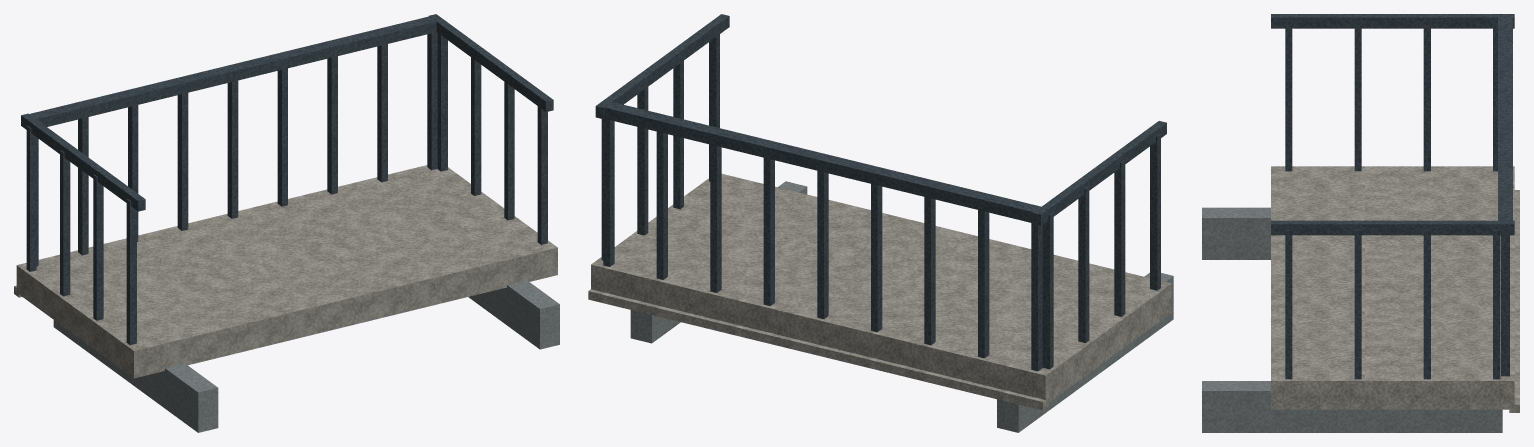
Rendered from PZ_Midrise_Balcony_Attachable.glb.
3 views of the same model, side by side, from view 1: azimuth 30°, elevation 25°; view 2: azimuth 150°, elevation 25°; view 3: azimuth 270°, elevation 25° (orthographic). The views are drawn at different scales.
Visible parts, largest first — view 1: BalconyAttachable_CantileverBalcony_CantileverDeck, BalconyAttachable_CantileverBalcony_Guardrail, BalconyAttachable_CantileverBalcony_BearingBrackets; view 2: BalconyAttachable_CantileverBalcony_CantileverDeck, BalconyAttachable_CantileverBalcony_Guardrail, BalconyAttachable_CantileverBalcony_EdgeDrip, BalconyAttachable_CantileverBalcony_BearingBrackets; view 3: BalconyAttachable_CantileverBalcony_CantileverDeck, BalconyAttachable_CantileverBalcony_Guardrail, BalconyAttachable_CantileverBalcony_BearingBrackets, BalconyAttachable_CantileverBalcony_EdgeDrip.
Part boxes in pixels (x1,y1,x2,y2): BalconyAttachable_CantileverBalcony_CantileverDeck: (16, 165, 557, 378); BalconyAttachable_CantileverBalcony_Guardrail: (21, 14, 553, 345); BalconyAttachable_CantileverBalcony_BearingBrackets: (53, 280, 559, 432); BalconyAttachable_CantileverBalcony_CantileverDeck: (591, 174, 1171, 404); BalconyAttachable_CantileverBalcony_Guardrail: (595, 14, 1166, 371); BalconyAttachable_CantileverBalcony_EdgeDrip: (588, 289, 1048, 410); BalconyAttachable_CantileverBalcony_BearingBrackets: (630, 181, 1173, 432); BalconyAttachable_CantileverBalcony_CantileverDeck: (1271, 166, 1514, 409); BalconyAttachable_CantileverBalcony_Guardrail: (1271, 14, 1514, 379); BalconyAttachable_CantileverBalcony_BearingBrackets: (1202, 207, 1502, 432); BalconyAttachable_CantileverBalcony_EdgeDrip: (1509, 190, 1519, 412).
Size of the model in its own units: 3.4 by 1.64 by 2.13.
3 materials, 3 textured.
